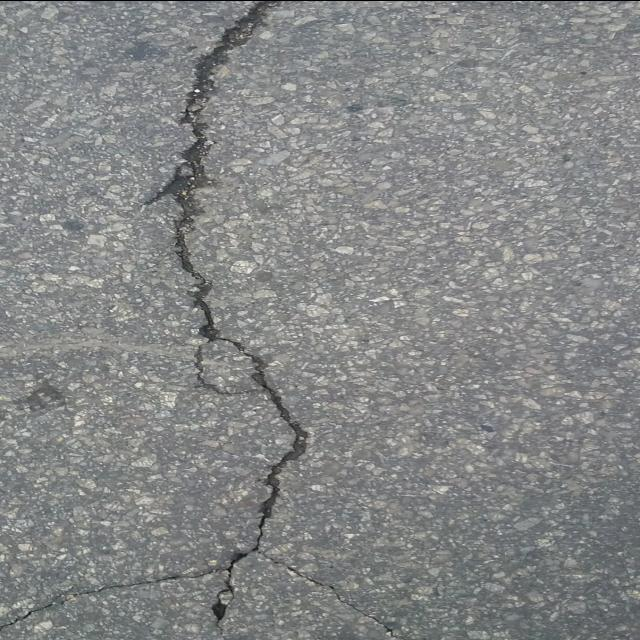Crack: (0, 0, 409, 640)
